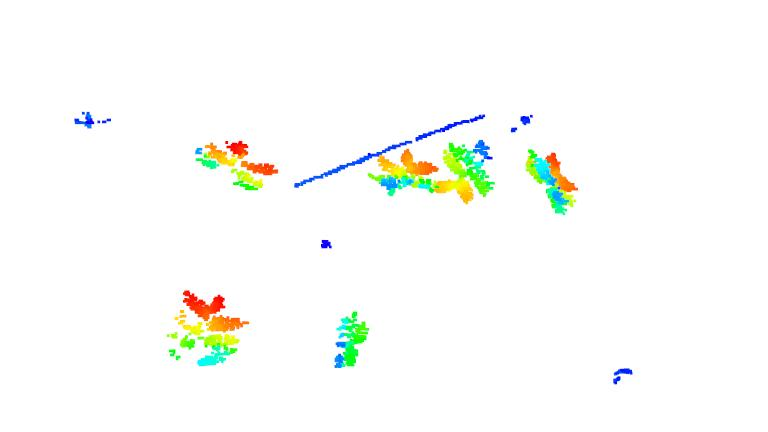chickpea: (164, 290, 249, 367), (191, 136, 279, 192), (433, 140, 497, 204), (523, 148, 578, 215), (367, 149, 440, 195), (330, 309, 370, 369)
